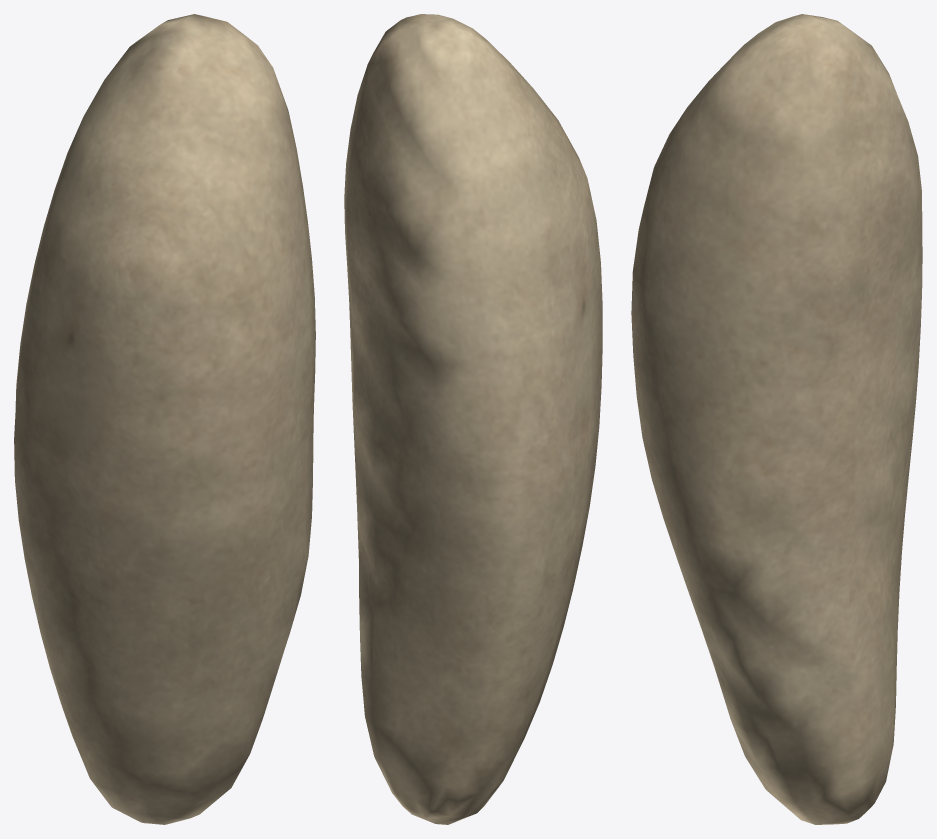
The model's file is upper_canine1.glb.
3 renders of one model, left to right at view 1: azimuth 30°, elevation 25°; view 2: azimuth 150°, elevation 25°; view 3: azimuth 270°, elevation 25°, orthographic. The views are drawn at different scales.
Visible parts, largest first — view 1: Group16962_Mesh.033; view 2: Group16962_Mesh.033; view 3: Group16962_Mesh.033.
Part boxes in pixels (bbox=[...]): Group16962_Mesh.033: bbox=[14, 14, 315, 824]; Group16962_Mesh.033: bbox=[344, 14, 602, 824]; Group16962_Mesh.033: bbox=[631, 14, 922, 824].
Size of the model in its own units: 0.00703 by 0.0221 by 0.0072.
Materials: 1 (1 with a texture image).
